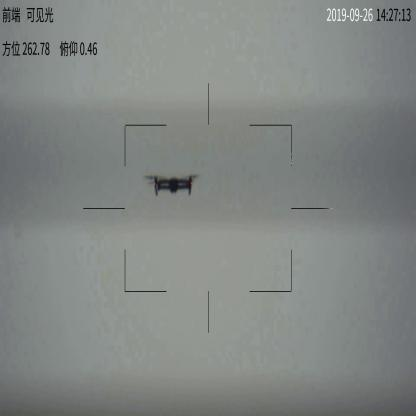uav: (143, 171, 199, 198)
